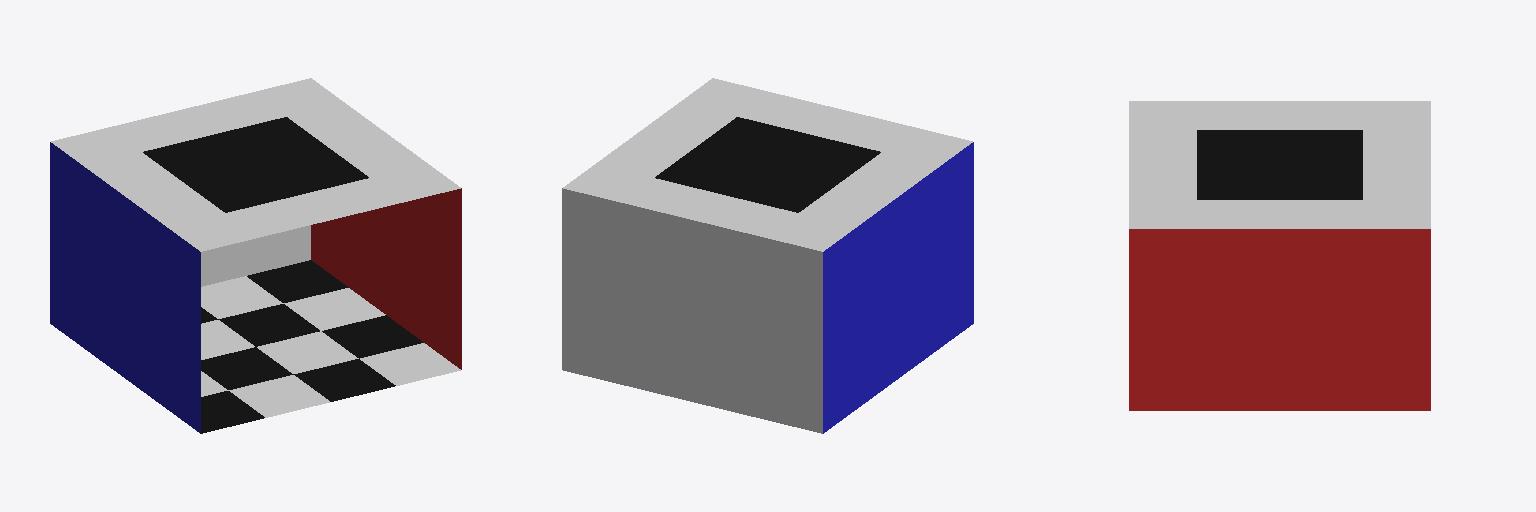
File: Cornell.obj
3 views of the same model, side by side, from view 1: azimuth 30°, elevation 25°; view 2: azimuth 150°, elevation 25°; view 3: azimuth 270°, elevation 25° (orthographic).
Parts seen in each view (by area): view 1: Cornell_Plane.003; view 2: Cornell_Plane.003; view 3: Cornell_Plane.003.
Part boxes in pixels (x1,y1,x2,y2): Cornell_Plane.003: (50, 78, 461, 433); Cornell_Plane.003: (562, 78, 973, 433); Cornell_Plane.003: (1129, 101, 1430, 410).
Size of the model in its own units: 90 by 60 by 90.